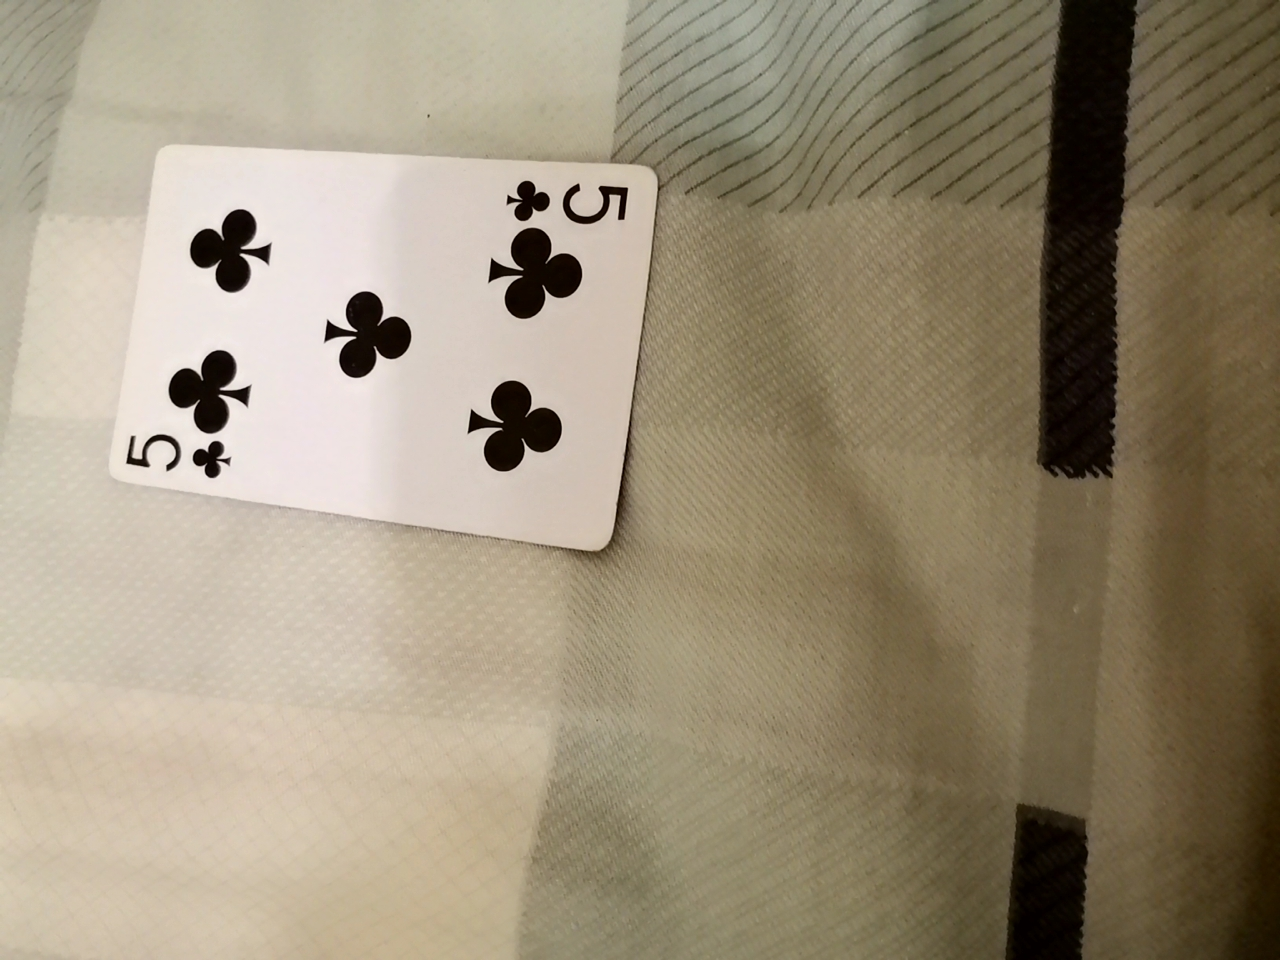mh 5: (113, 135, 645, 565)
